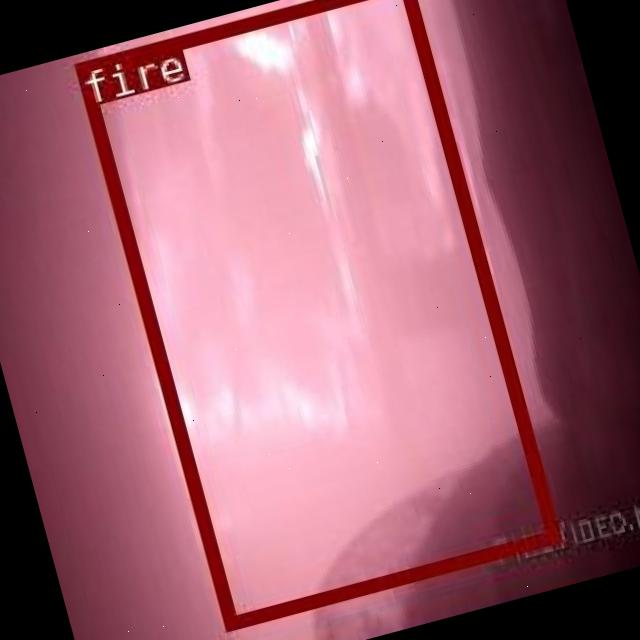fire: (72, 0, 556, 627)
